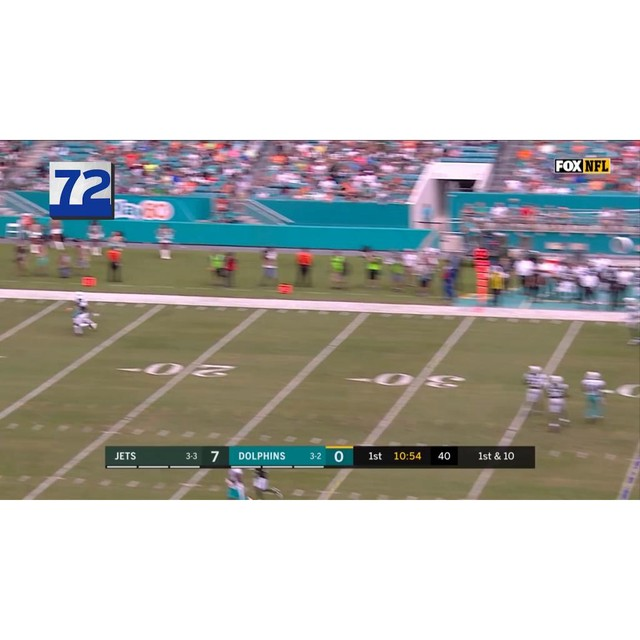american-football-player: (580, 370, 608, 422), (545, 374, 571, 429), (68, 292, 98, 336), (250, 464, 283, 500), (521, 364, 547, 409), (622, 295, 640, 346), (224, 465, 248, 500)
